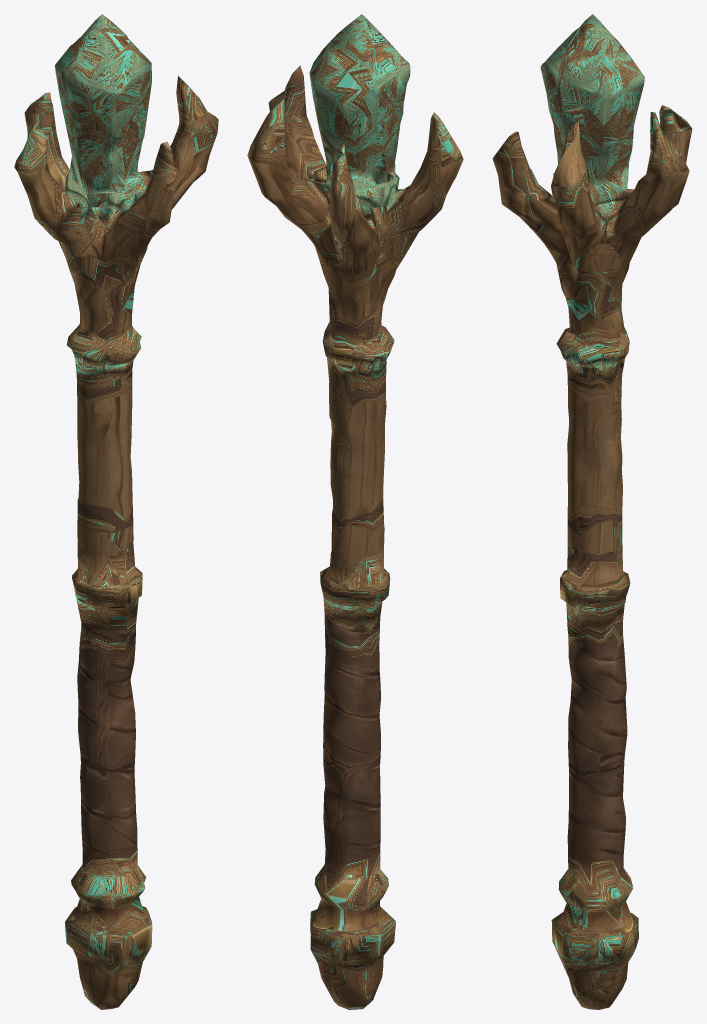
The model's file is 1037_wand.glb.
3 renders of one model, left to right at view 1: azimuth 30°, elevation 25°; view 2: azimuth 150°, elevation 25°; view 3: azimuth 270°, elevation 25°, orthographic.
Parts seen in each view (by area): view 1: Model; view 2: Model; view 3: Model.
Part boxes in pixels (left/top/right/bottom): Model: left=14, top=14, right=218, bottom=1009; Model: left=247, top=14, right=463, bottom=1009; Model: left=492, top=14, right=692, bottom=1009.
Bounding box in the file's own units: 0.2084 × 1 × 0.1829.
1 material, 1 textured.
